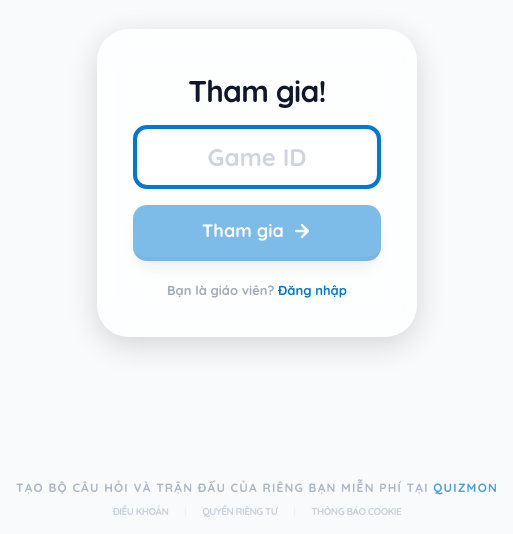
Test case: JoinMatch Page › shows error message if match is not found
Step 1. Type "999999" into the field with placeholder "Game ID" → x=257, y=157, box [133, 125, 381, 189]
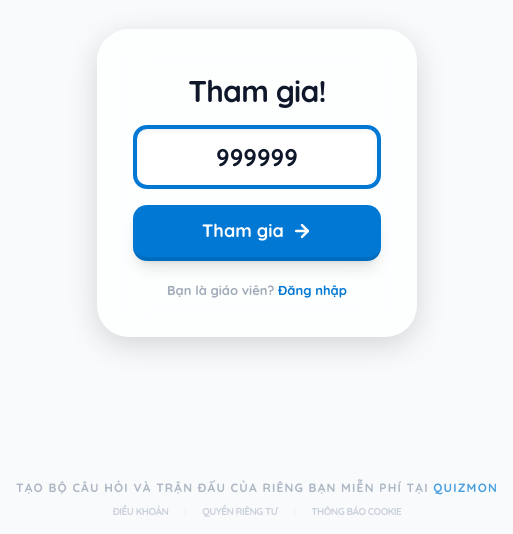
Step 2. Click the button "Tham gia" → x=257, y=233, box [133, 205, 381, 261]
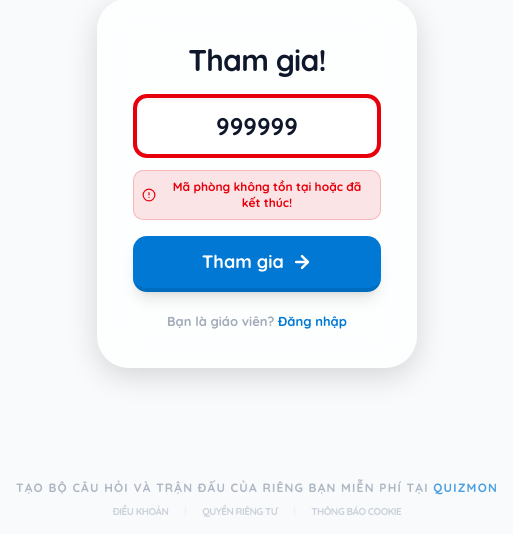
Result: the text "Mã phòng không tồn tại hoặc đã kết thúc!" is shown at [162, 179, 372, 211]
